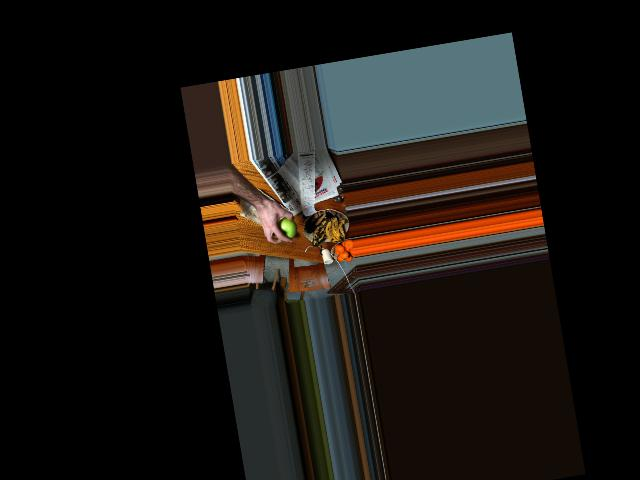apple: (271, 211, 298, 245)
